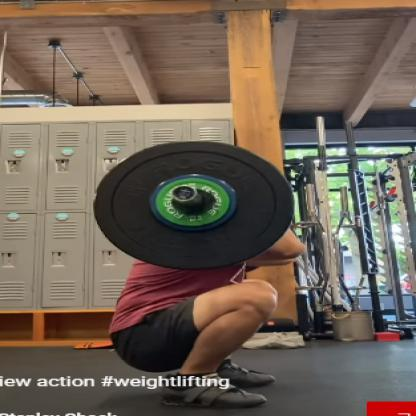Barbell: (91, 136, 299, 272)
